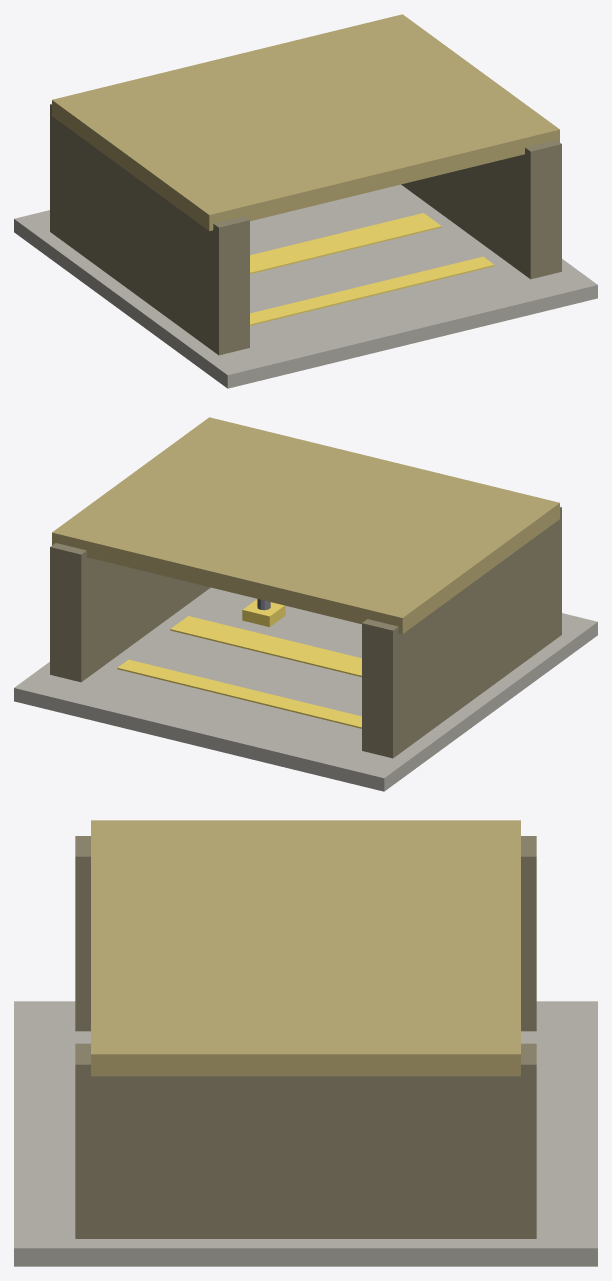
The model's file is dm_service_depot.glb.
The picture shows the model from 3 angles, top to bottom: view 1: azimuth 30°, elevation 25°; view 2: azimuth 150°, elevation 25°; view 3: azimuth 270°, elevation 25°; orthographic projection. The views are drawn at different scales.
Visible parts, largest first — view 1: model; view 2: model; view 3: model.
Boxes of the visible parts, x1=… form: model: x1=14, y1=14, x2=597, y2=388; model: x1=14, y1=417, x2=597, y2=791; model: x1=14, y1=820, x2=597, y2=1266.
Size of the model in its own units: 1.9 by 0.7387 by 1.9.
